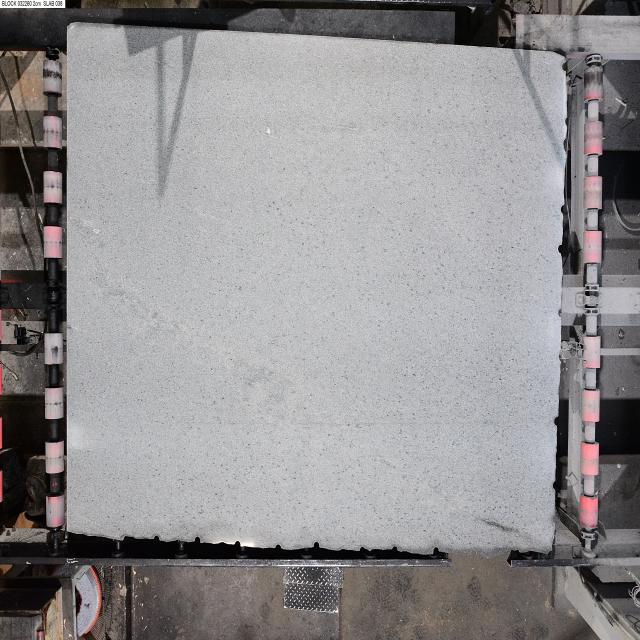chapa: (68, 24, 566, 555)
veio: (192, 534, 202, 547), (312, 539, 322, 552), (233, 538, 243, 550), (558, 243, 563, 254)
